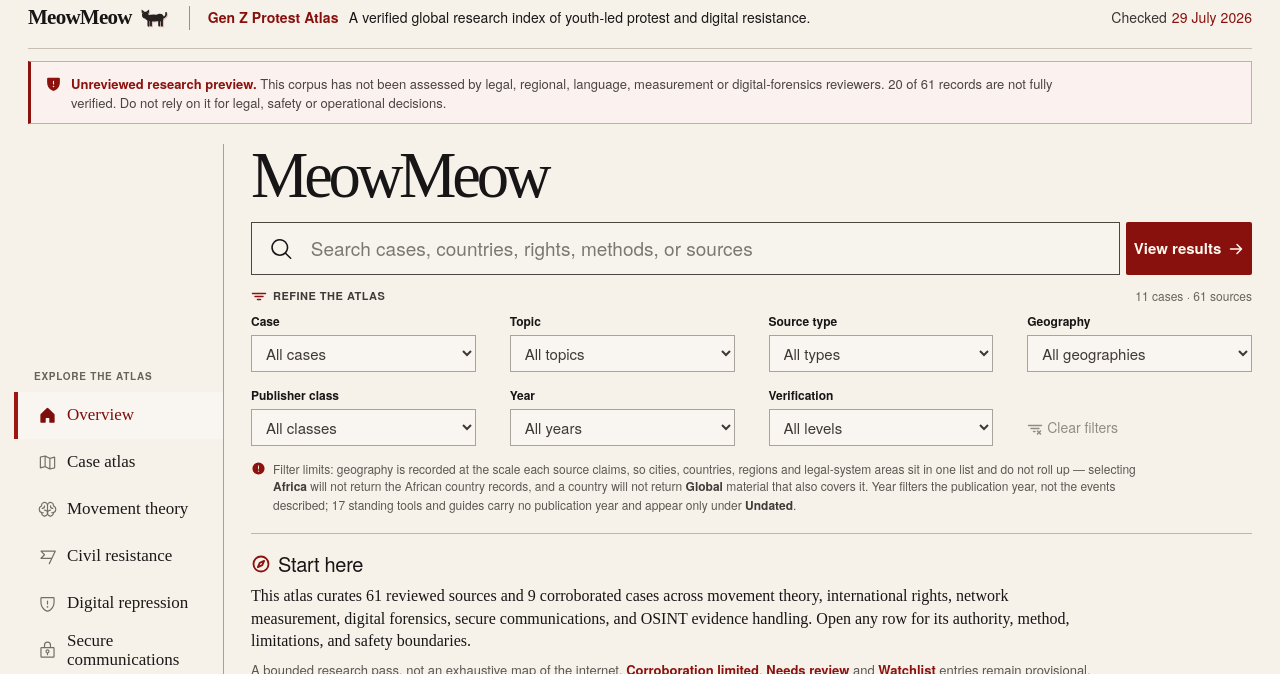
Scenario: atlas filtering › reports no results rather than an empty table
Type "zzzzzznotarealquery" into the search field labelled "Search cases, countries, rights, methods, or sources".
click(706, 249); type("zzzzzznotarealquery")  # box [311,234,1102,263]
(page scrolled)
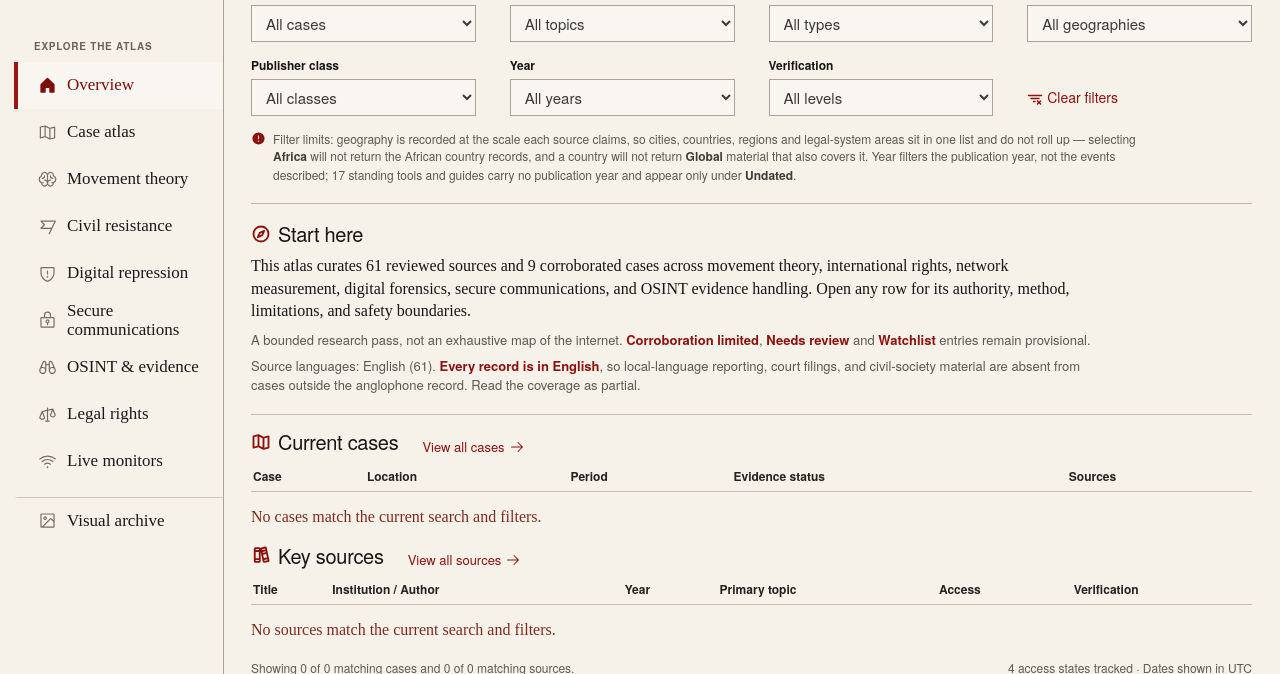
Result: the text "No cases match the current search and filters." is shown at [251,508,542,525]
Result: the text "No sources match the current search and filters." is shown at [251,621,556,638]
